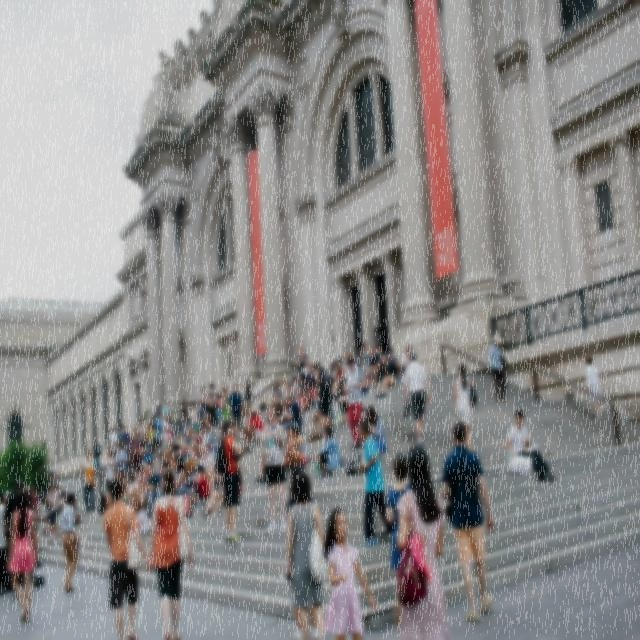pessoa: (392, 444, 450, 640), (440, 421, 495, 624), (145, 464, 196, 640), (103, 476, 153, 640), (286, 470, 334, 640), (322, 507, 377, 639), (284, 463, 321, 639), (358, 417, 402, 549), (92, 462, 196, 514), (6, 488, 38, 625), (214, 418, 246, 545), (258, 402, 288, 532), (504, 408, 556, 482), (18, 485, 51, 594), (386, 454, 414, 580), (266, 358, 314, 426), (402, 348, 432, 449), (173, 0, 220, 59), (344, 354, 368, 450), (2, 478, 30, 557), (329, 341, 369, 396), (454, 362, 478, 452), (60, 490, 80, 592), (153, 425, 206, 463), (201, 412, 223, 494), (305, 383, 334, 441), (486, 331, 508, 407), (312, 360, 332, 440), (313, 424, 341, 478), (583, 352, 604, 422), (228, 380, 246, 450), (286, 424, 310, 474), (365, 404, 387, 456), (374, 352, 398, 399), (39, 470, 55, 538), (80, 448, 96, 514), (242, 406, 264, 454), (140, 464, 160, 514), (282, 392, 302, 442), (363, 346, 386, 389), (199, 484, 226, 519), (44, 482, 60, 540), (129, 461, 150, 505), (176, 457, 198, 498), (378, 346, 402, 382), (191, 463, 209, 509), (129, 432, 144, 482), (30, 486, 40, 556), (132, 498, 149, 539), (330, 2, 347, 36), (295, 344, 310, 382), (104, 446, 115, 494), (204, 392, 218, 429), (177, 401, 188, 448), (284, 424, 295, 471), (115, 439, 128, 477), (269, 380, 284, 412), (337, 382, 348, 424), (152, 406, 174, 427), (221, 392, 231, 438), (140, 431, 153, 466), (401, 343, 414, 378), (172, 458, 186, 490), (215, 392, 224, 438), (162, 412, 174, 445), (60, 489, 77, 512), (108, 425, 120, 457), (254, 452, 265, 486), (136, 417, 146, 454), (154, 411, 167, 438), (360, 342, 370, 376), (189, 400, 199, 429), (146, 420, 156, 448), (194, 445, 206, 467), (92, 438, 102, 464), (210, 133, 220, 159), (199, 400, 207, 430), (198, 384, 208, 407), (208, 382, 218, 405), (220, 384, 230, 406), (180, 444, 192, 462), (92, 451, 100, 476), (118, 424, 126, 449), (124, 426, 131, 454), (244, 378, 252, 402), (130, 425, 138, 448), (54, 483, 60, 513), (189, 426, 197, 448), (373, 342, 383, 359), (161, 398, 169, 416), (259, 396, 267, 414), (150, 416, 158, 429), (3, 494, 8, 506), (156, 406, 160, 416), (136, 430, 140, 440)
